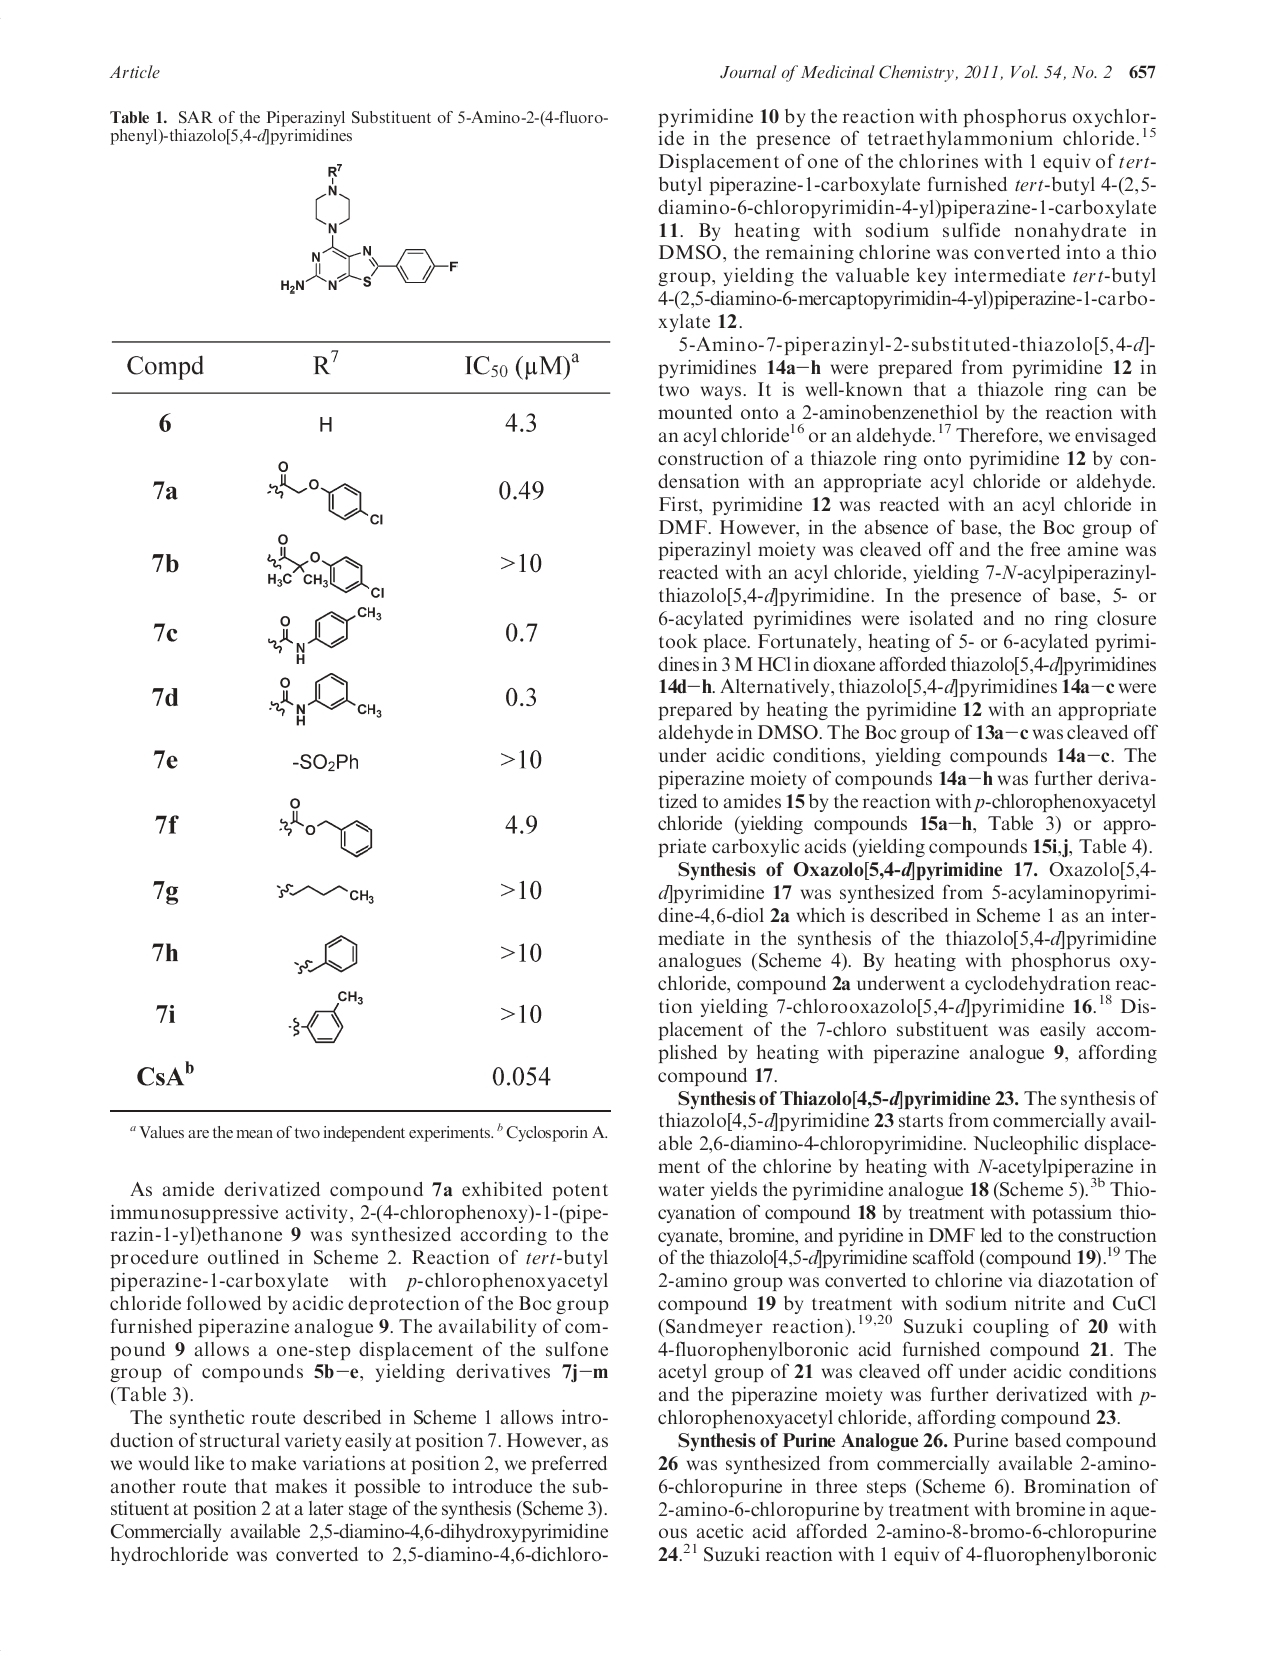exist_molecular: (275, 158, 465, 297), (265, 527, 387, 602), (263, 457, 387, 528), (263, 666, 387, 731), (265, 598, 383, 666), (274, 794, 380, 859), (285, 980, 366, 1047), (273, 875, 378, 908), (289, 931, 360, 977)
